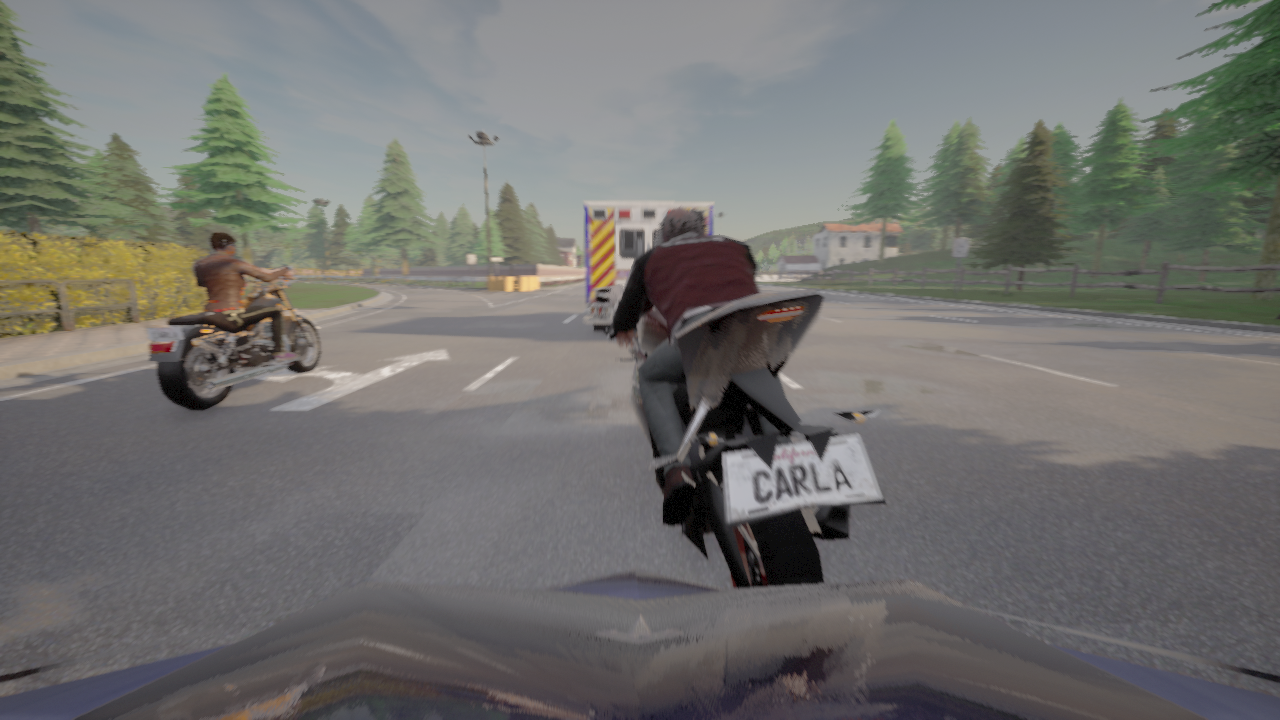cyclist: (0, 569, 1279, 719), (595, 285, 887, 589), (147, 266, 321, 411), (583, 201, 713, 331)
